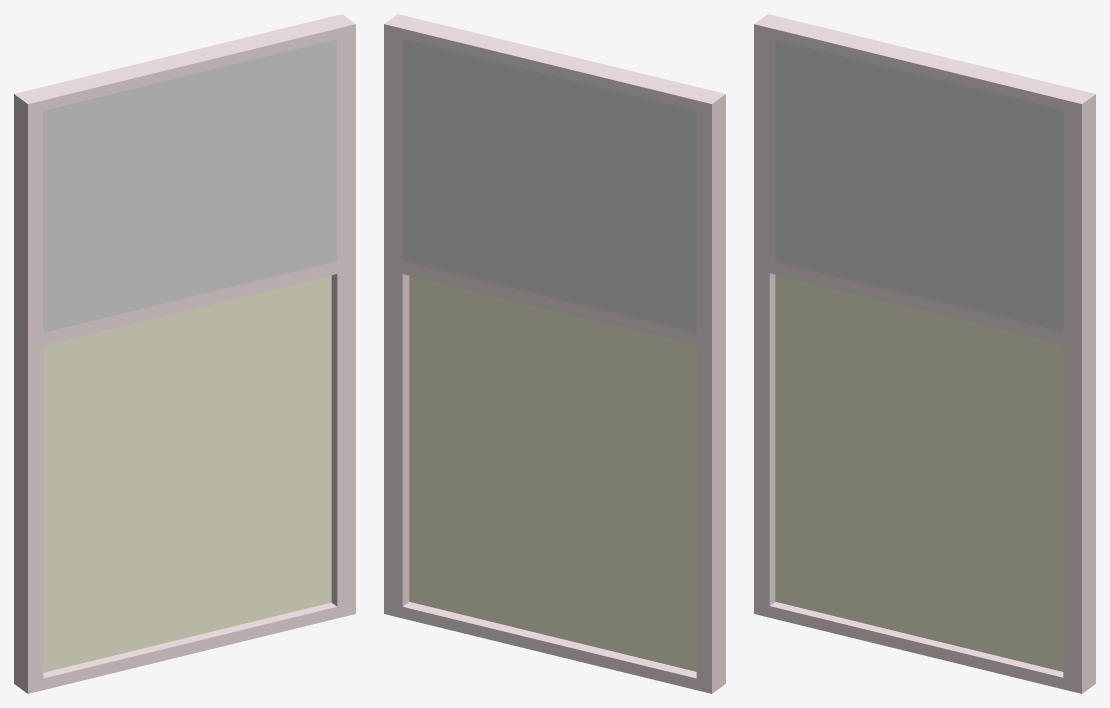
The model's file is walldoor.fbx.
The picture shows the model from 3 angles, left to right: view 1: azimuth 30°, elevation 25°; view 2: azimuth 150°, elevation 25°; view 3: azimuth 330°, elevation 25°; orthographic projection.
Parts seen in each view (by area): view 1: Cube, Cube.001; view 2: Cube, Cube.001; view 3: Cube, Cube.001.
Part boxes in pixels (x1,y1,x2,y2): Cube: [14, 14, 355, 693]; Cube.001: [43, 39, 337, 332]; Cube: [384, 14, 725, 693]; Cube.001: [402, 39, 696, 332]; Cube: [754, 14, 1095, 693]; Cube.001: [775, 40, 1063, 331].
Size of the model in its own units: 812 by 1395 by 59.42.
